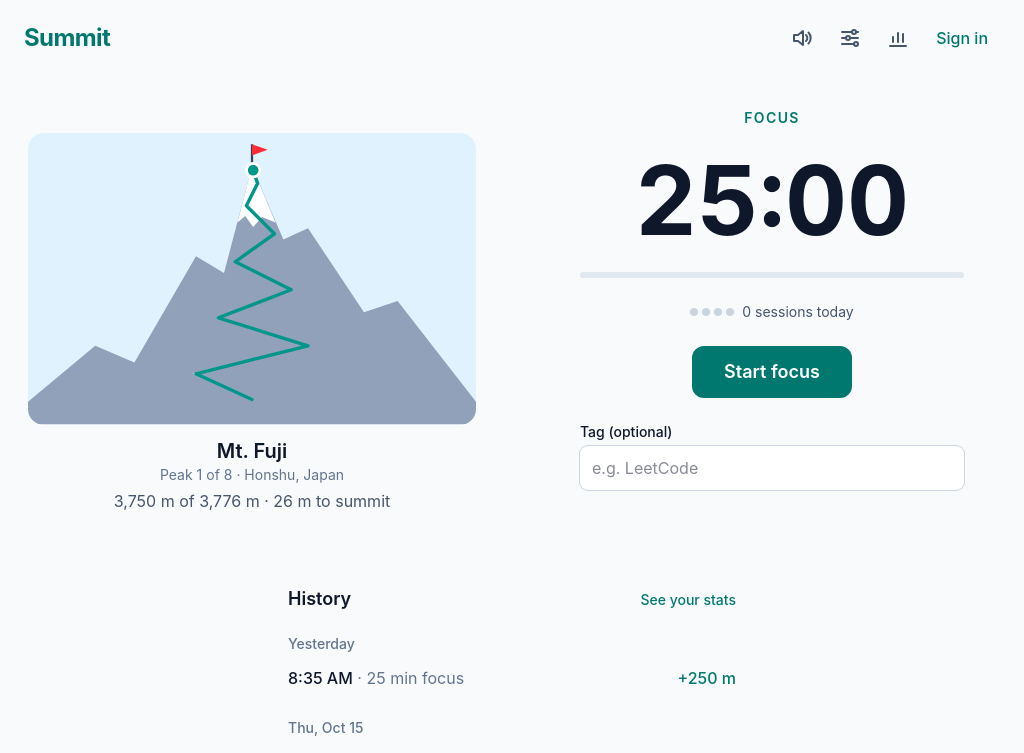
App: reaching a summit › celebrates the summit and moves on to the next peak
Expected: the picture named "Climber at 3,750 m of 3,776 m on Mt. Fuji" is shown, 28,133 -> 476,425
Click the button "Start focus".
click(772, 372)  # box 692,346 -> 852,398
Wait 1500000 ms
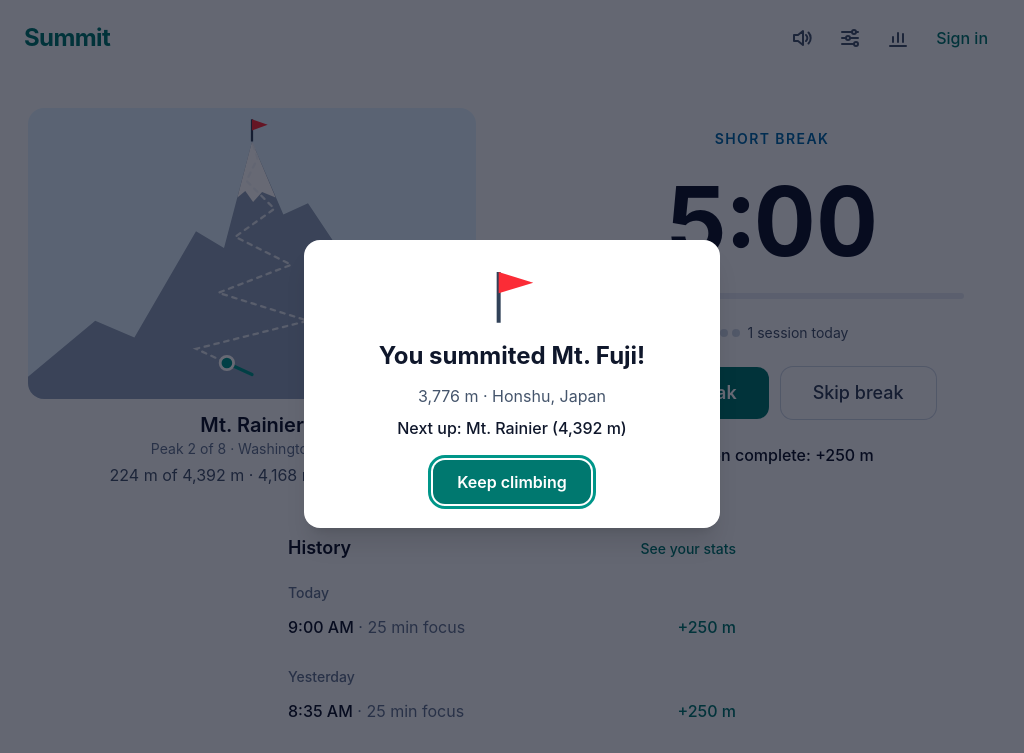
Result: the dialog "You summited Mt. Fuji!" shows "Next up: Mt. Rainier (4,392 m)" at 397,418 -> 627,438
Click the button "Keep climbing".
click(512, 482)  # box 433,460 -> 591,504
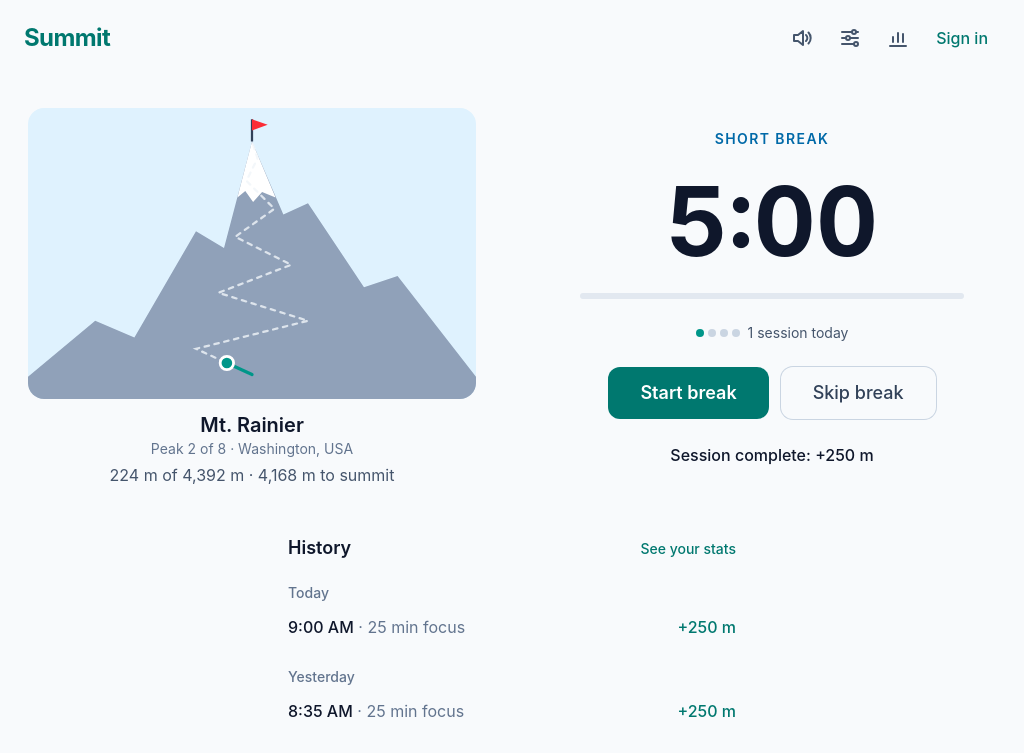
Expected: the picture named "Climber at 224 m of 4,392 m on Mt. Rainier" is shown, 28,108 -> 476,399
Result: the dialog is gone
